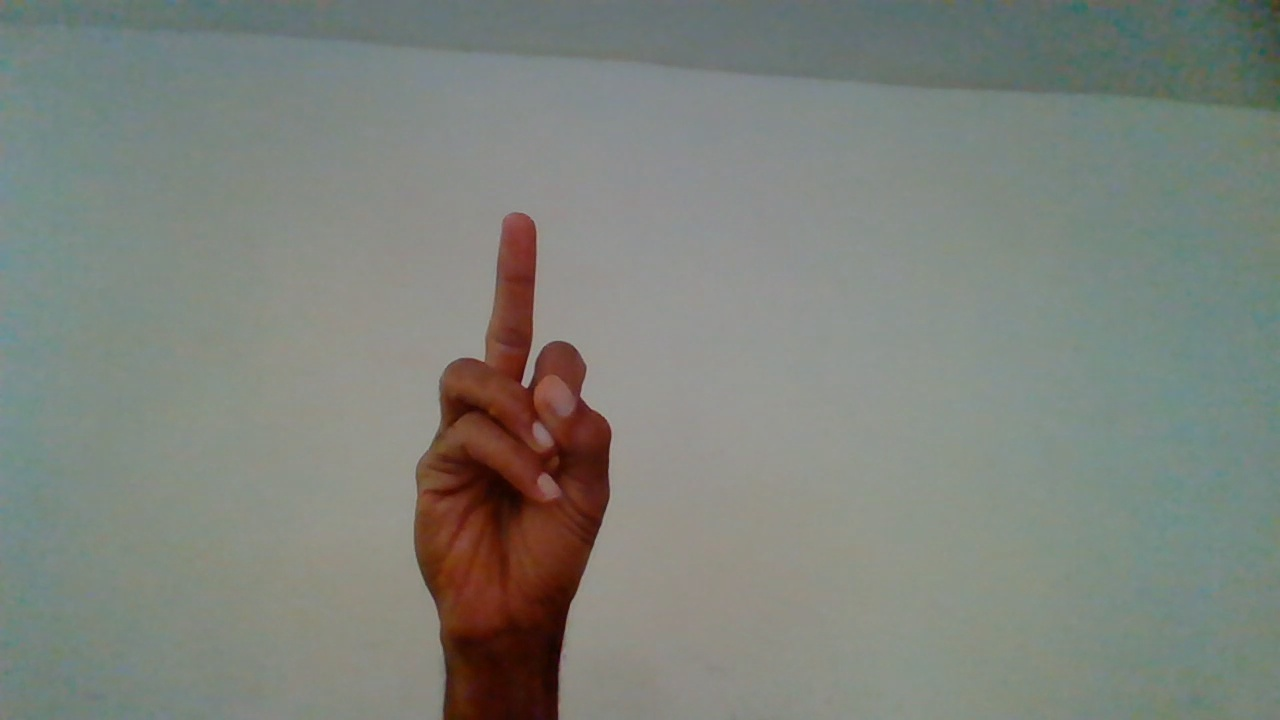he: (409, 211, 626, 720)
